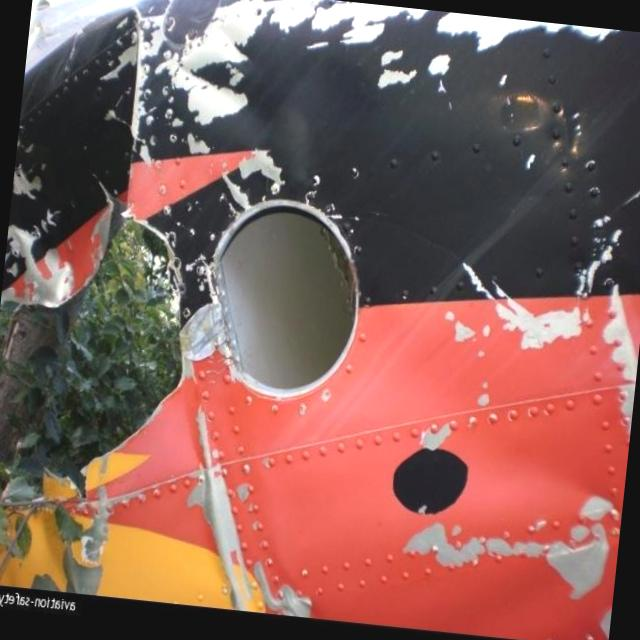dent: (473, 446, 606, 516), (284, 101, 324, 183), (236, 88, 276, 142)
